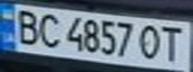4: (60, 14, 84, 52)
5: (97, 18, 118, 56)
7: (115, 19, 139, 57)
8: (78, 16, 103, 54)
B: (9, 7, 42, 46)
C: (33, 11, 63, 48)
O: (136, 21, 163, 61)
T: (157, 22, 190, 63)
